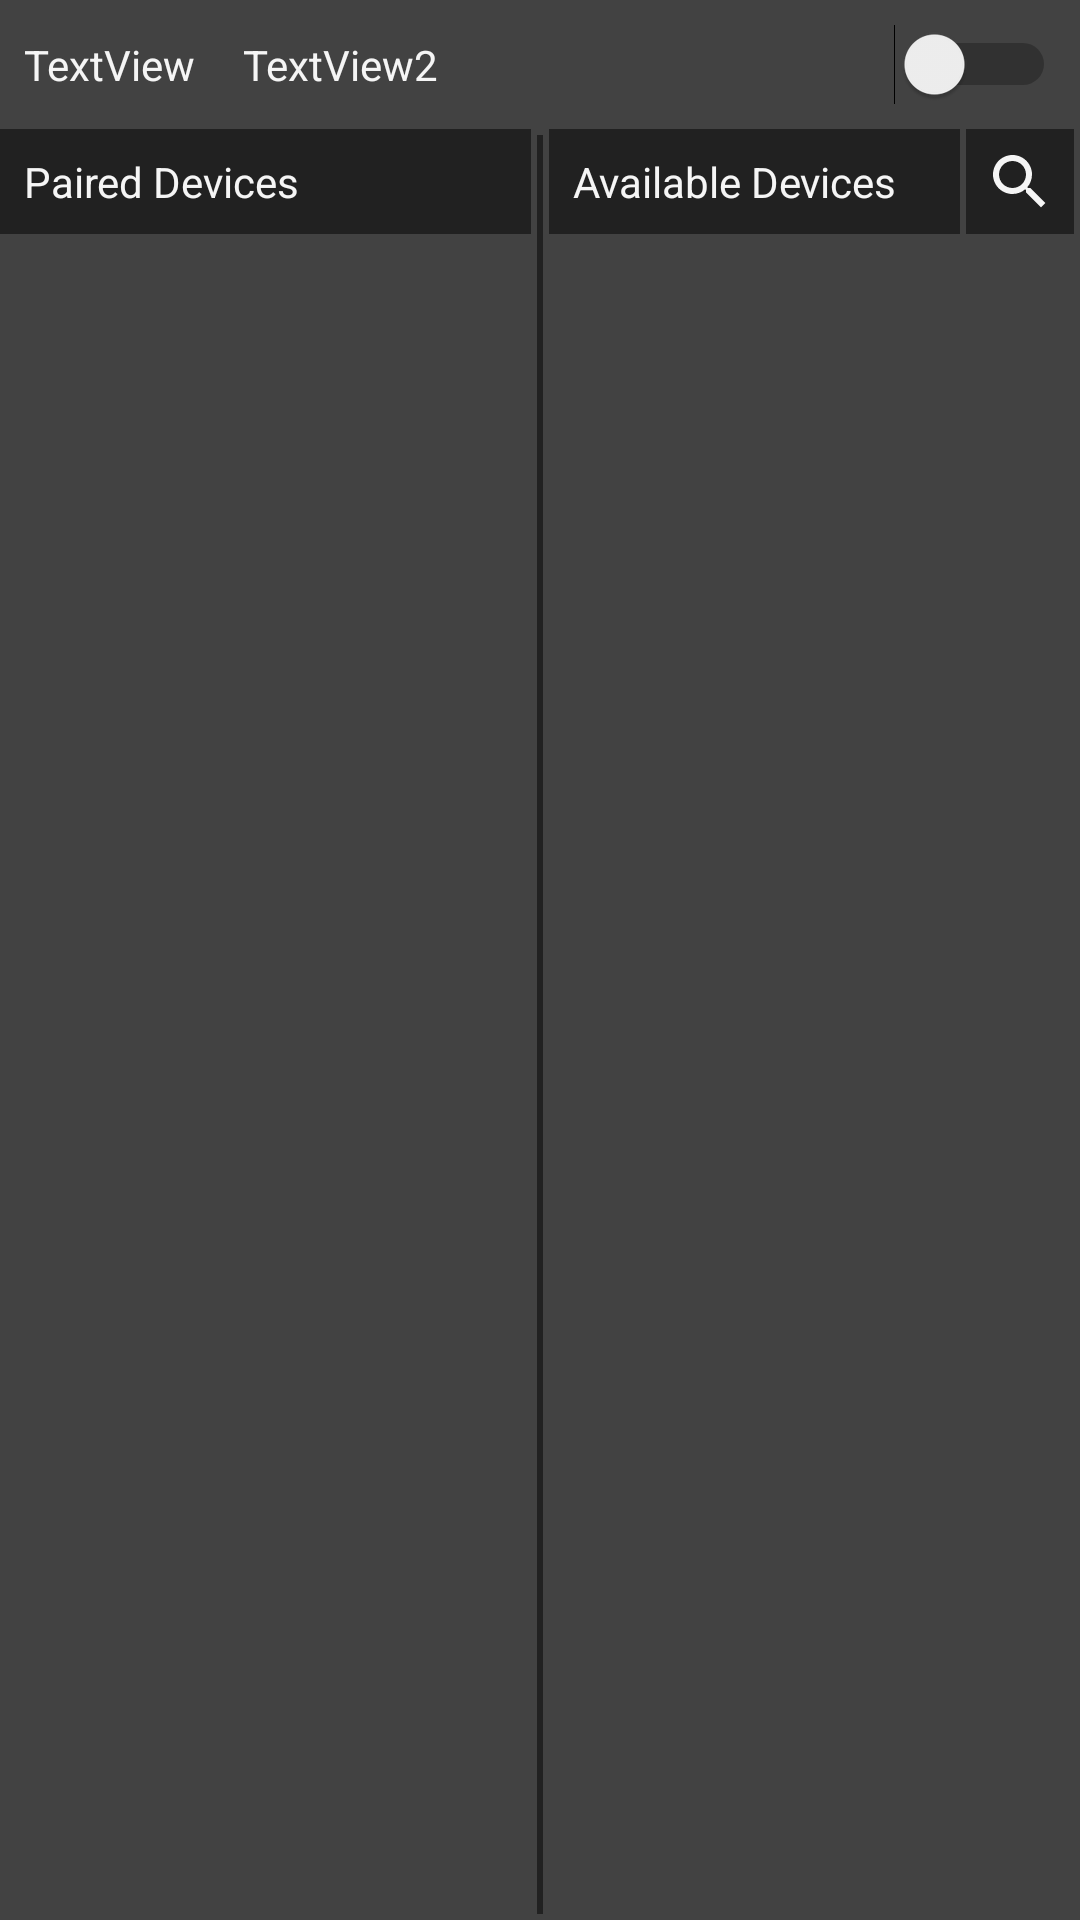

Locate icon controls on the screen. Image size 1080*1920, boxes as (x1, y1, x2, y2).
search: (966, 129, 1074, 234)
